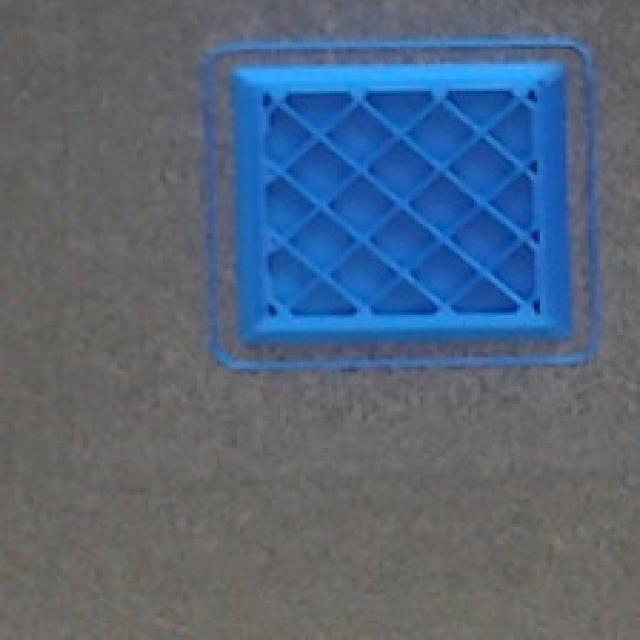noMistake: (192, 33, 618, 381)
